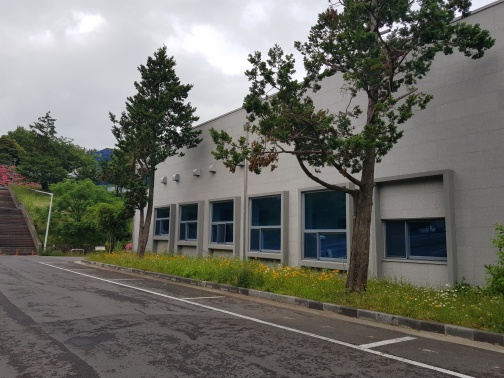College of Social Sciences: (129, 42, 500, 305), (173, 184, 295, 273)
